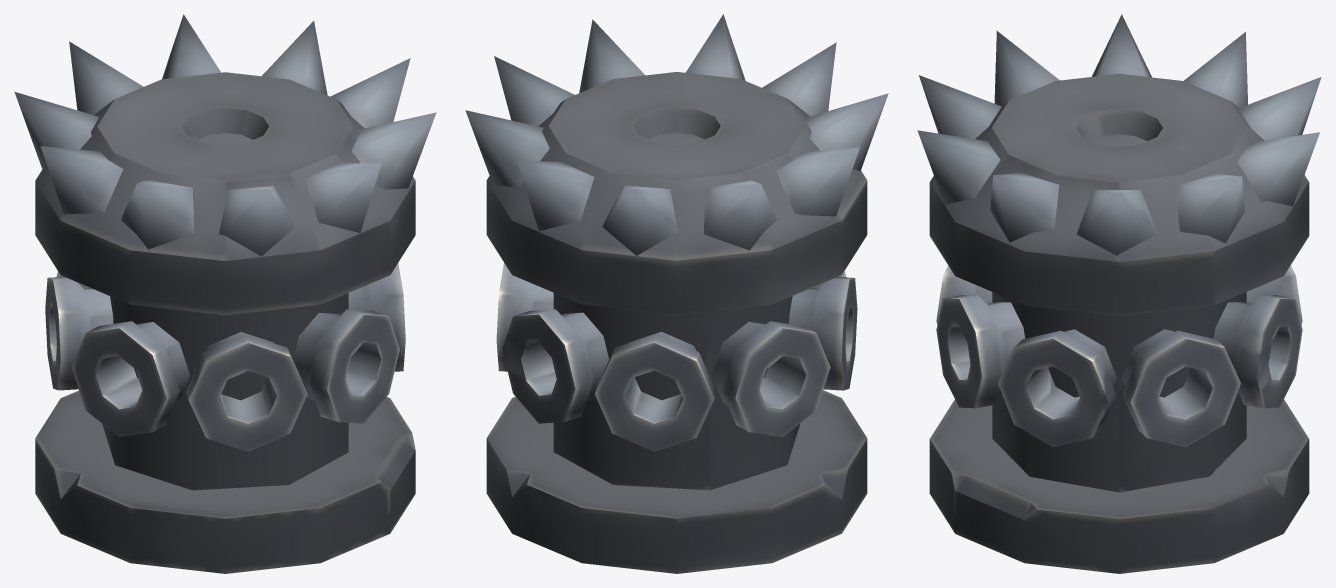
3 renders of one model, left to right at view 1: azimuth 30°, elevation 25°; view 2: azimuth 150°, elevation 25°; view 3: azimuth 270°, elevation 25°, orthographic.
Visible parts, largest first — view 1: Cylinder.020_Baked; view 2: Cylinder.020_Baked; view 3: Cylinder.020_Baked.
Boxes of the visible parts, left/top/right/bottom form: Cylinder.020_Baked: left=14, top=14, right=436, bottom=573; Cylinder.020_Baked: left=465, top=14, right=888, bottom=573; Cylinder.020_Baked: left=917, top=14, right=1321, bottom=573.
Size of the model in its own units: 112 by 114 by 107.
Materials: 1 (1 with a texture image).
